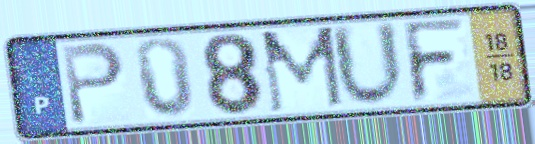0: (133, 35, 197, 122)
8: (198, 30, 268, 119)
F: (399, 15, 469, 106)
M: (257, 23, 347, 117)
P: (58, 39, 128, 128)
U: (326, 17, 409, 111)
